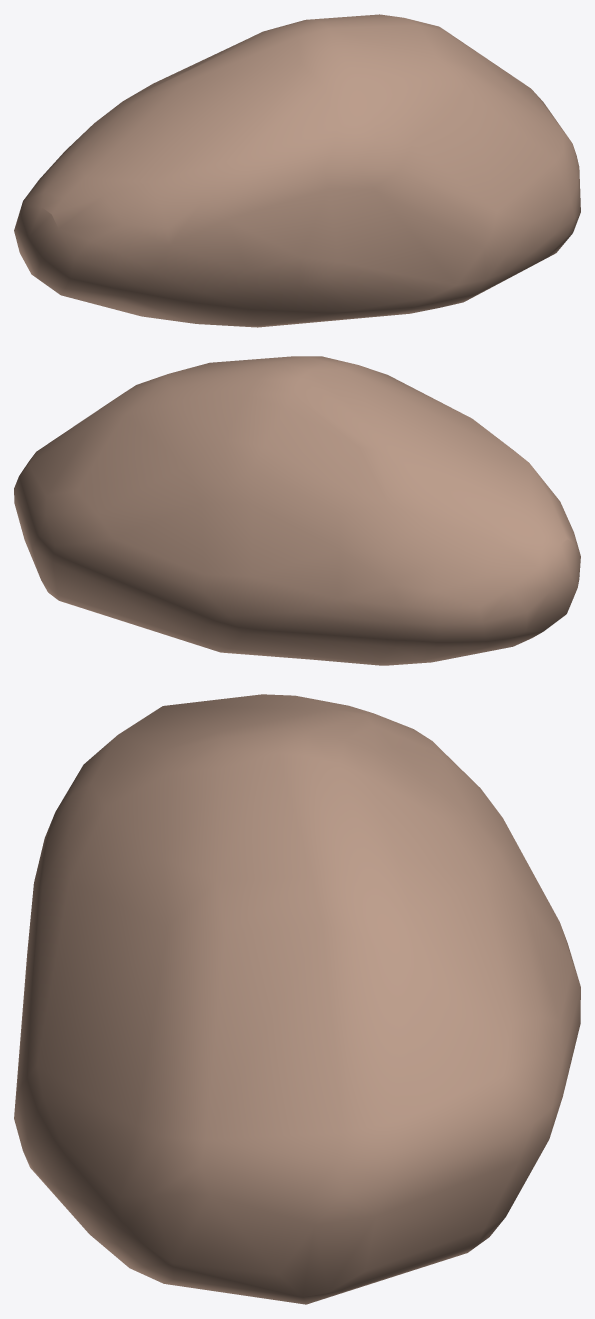
Rendered from Boulder_03_Long_LOD0.fbx.
3 renders of one model, top to bottom at view 1: azimuth 30°, elevation 25°; view 2: azimuth 150°, elevation 25°; view 3: azimuth 270°, elevation 25°, orthographic. The views are drawn at different scales.
Visible parts, largest first — view 1: Boulder_03_Long_LOD1_Mesh; view 2: Boulder_03_Long_LOD1_Mesh; view 3: Boulder_03_Long_LOD1_Mesh.
Boxes of the visible parts, left/top/right/bottom form: Boulder_03_Long_LOD1_Mesh: left=14, top=14, right=580, bottom=327; Boulder_03_Long_LOD1_Mesh: left=14, top=356, right=580, bottom=665; Boulder_03_Long_LOD1_Mesh: left=14, top=694, right=580, bottom=1304.
Bounding box in the file's own units: 2.77 × 1.18 × 1.59.
